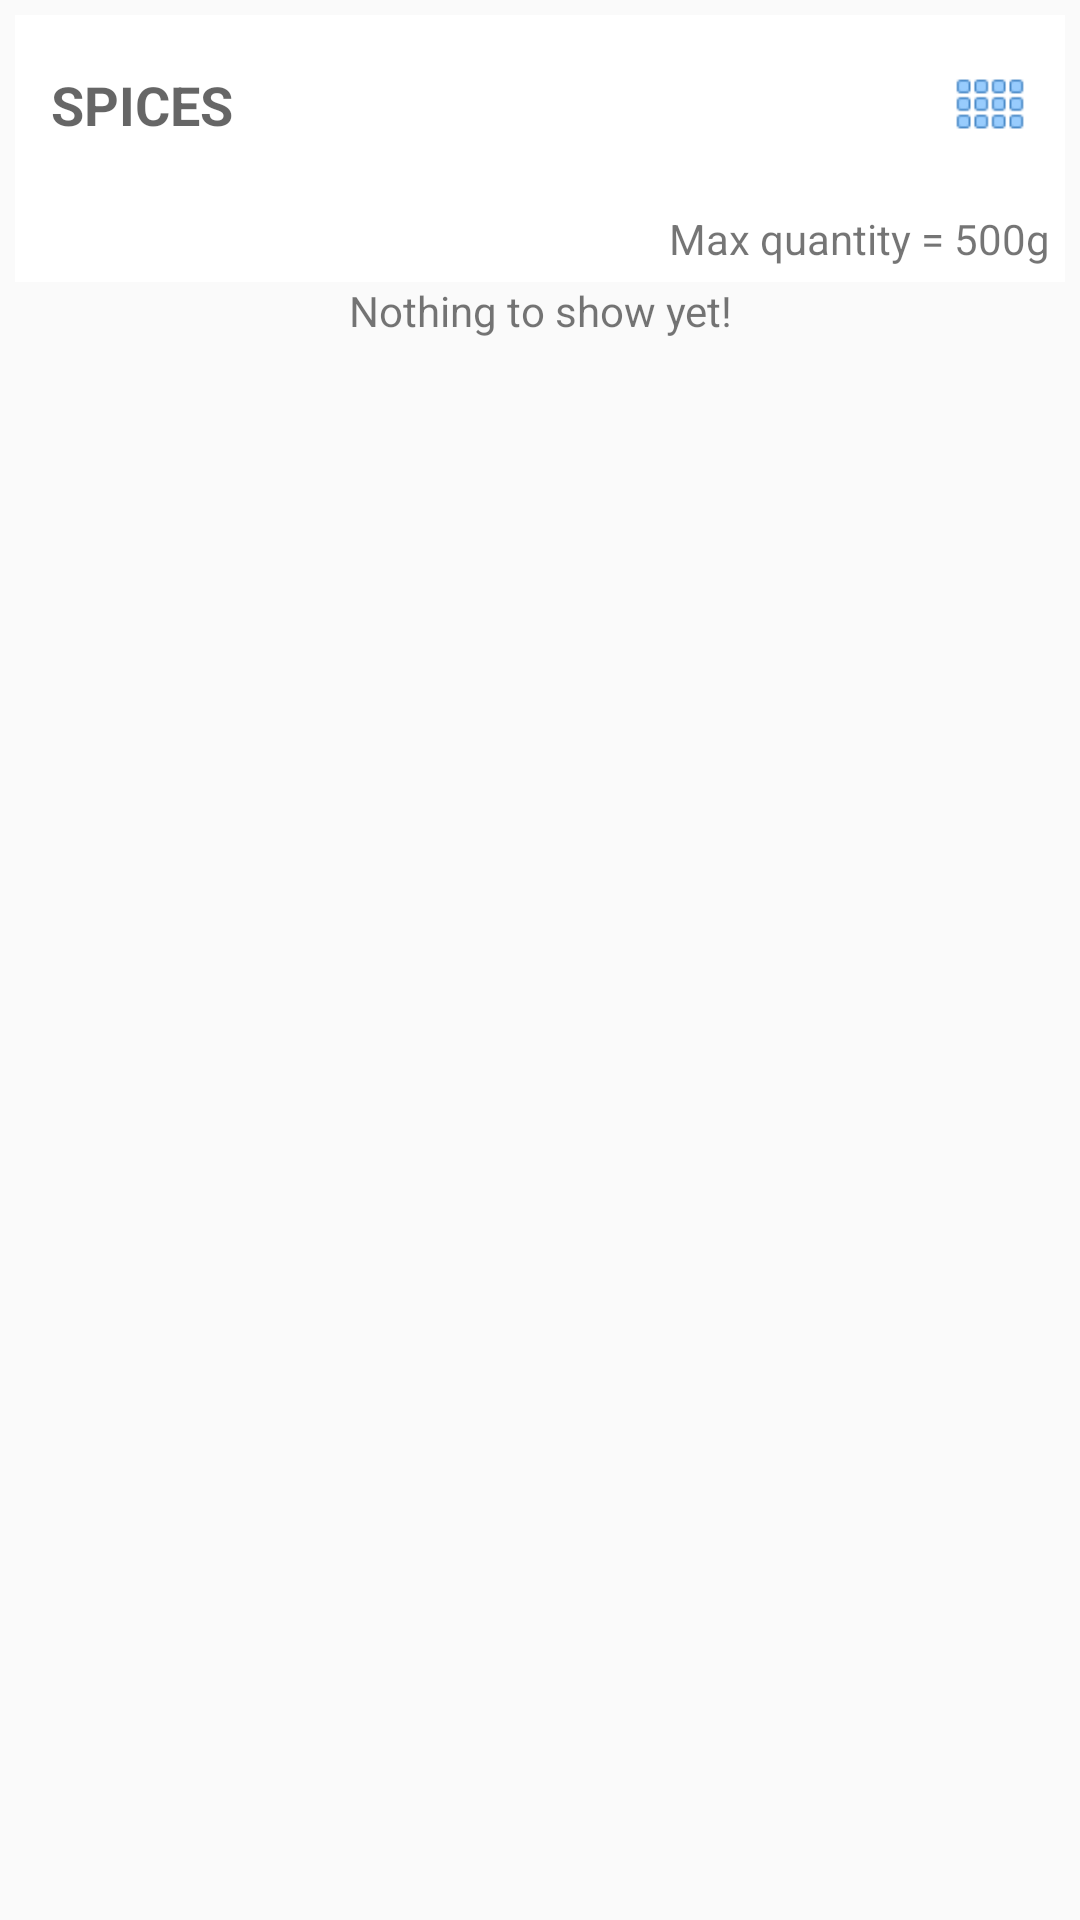

Icons on this 1080px×1920px Android screen, each with its box as (x1, y1, x2, y2):
grid: (956, 79, 1024, 129)
